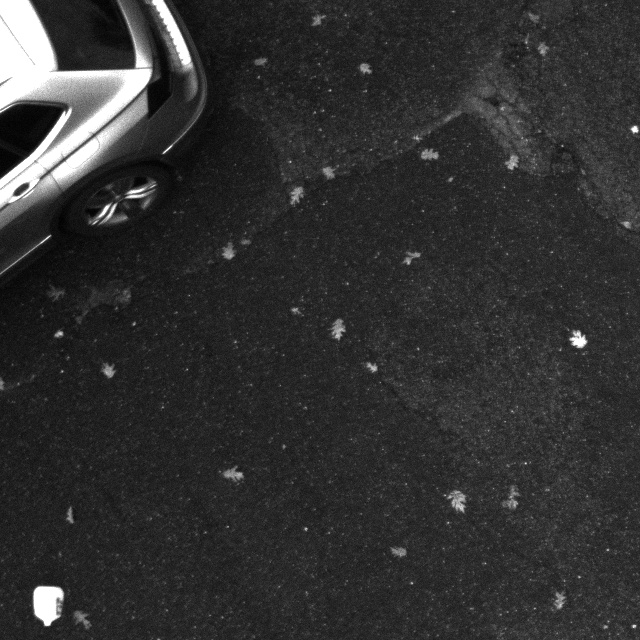can: (23, 579, 68, 629)
